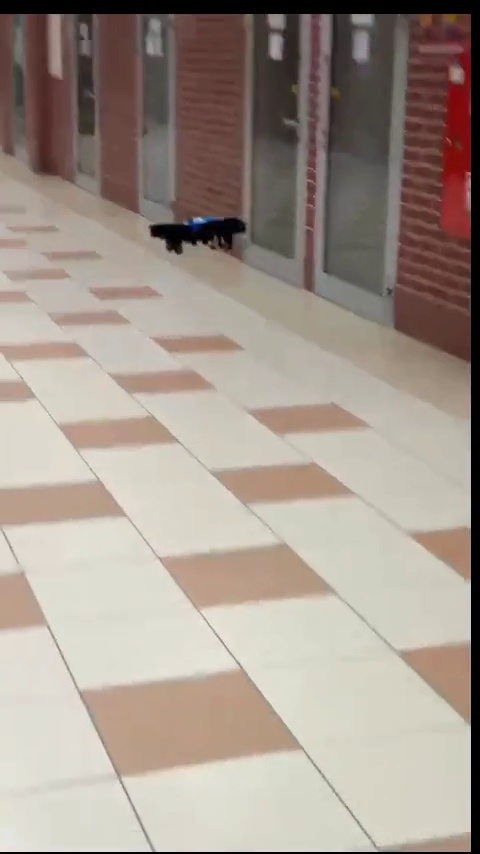drone: (152, 211, 253, 249)
